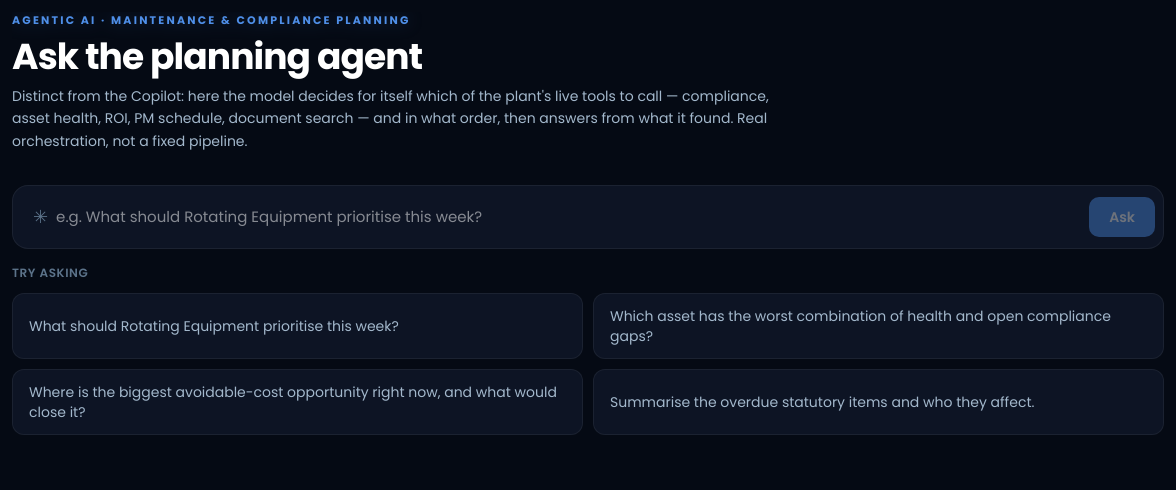
Test: Planning Agent page › shows the honest 'Agent unavailable' state on a 503, not a crash or a silent failure
Type "What should Rotating Equipment prioritise?" into the field with placeholder "e.g. What should Rotating Equipment prioritise this week?" at (569, 217), box [56,194,1081,240]
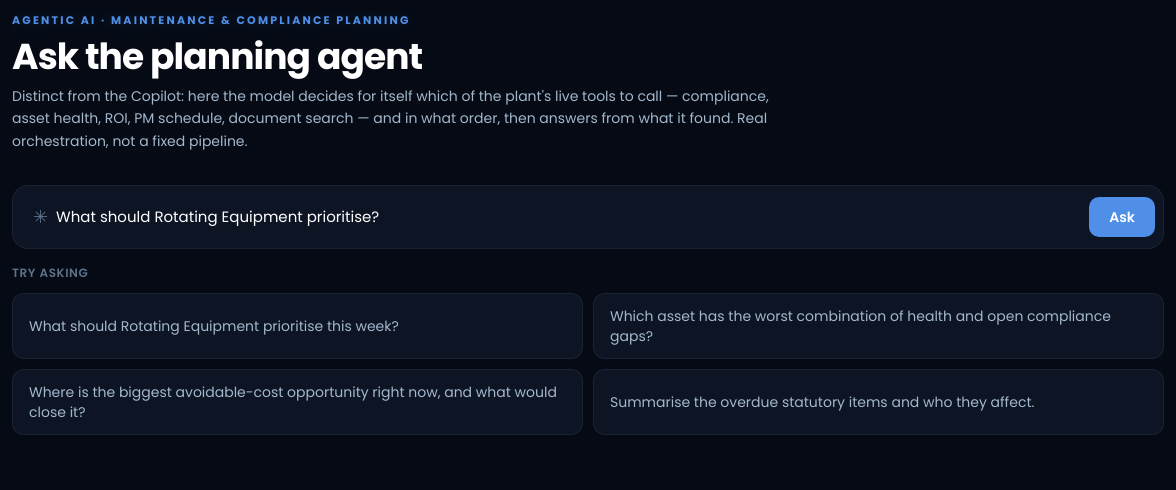
Click the button "Ask" at (1122, 217), box [1089,197,1155,237]
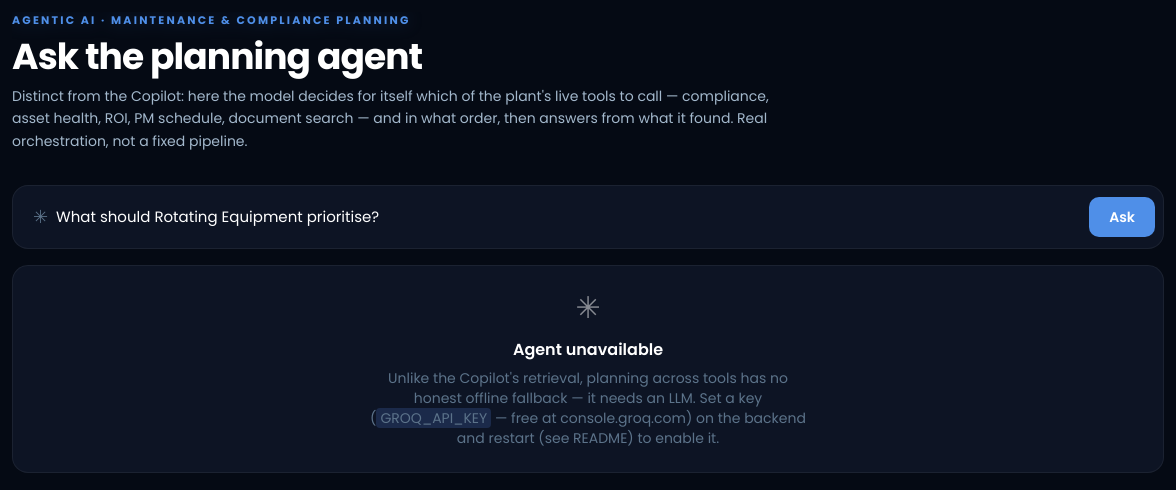
Expected: the text "Agent unavailable" is shown, [513,338,663,361]
Expected: the text "GROQ_API_KEY" is shown, [376,408,491,428]
